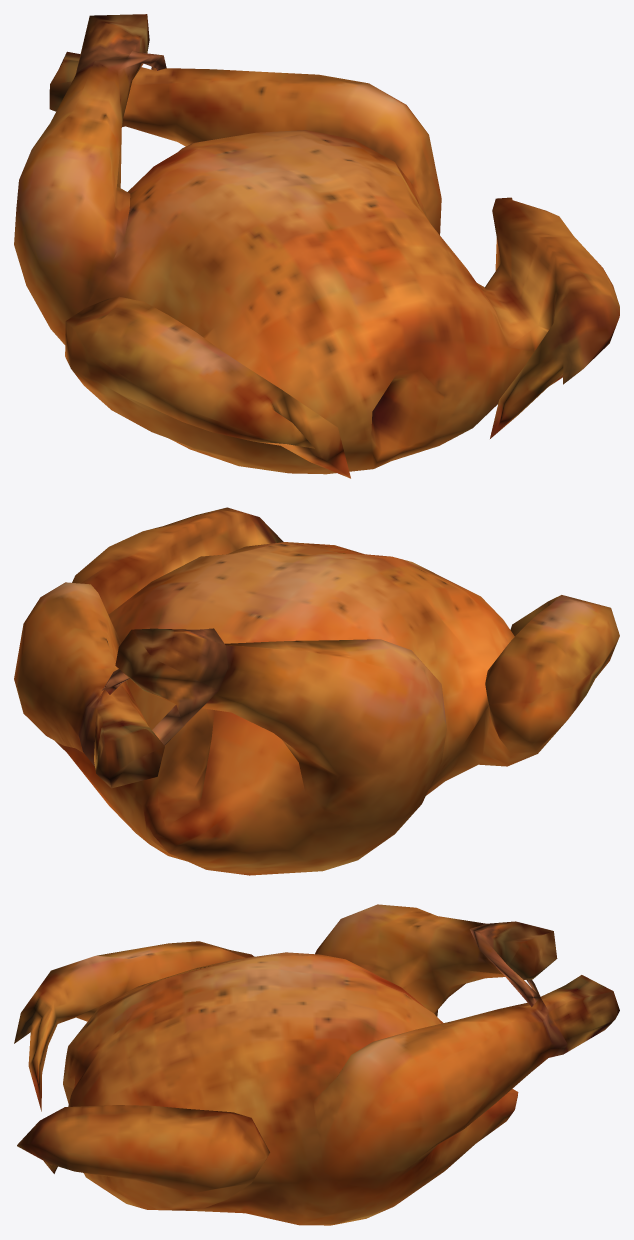
The model's file is ref_roastchicken.glb.
3 renders of one model, top to bottom at view 1: azimuth 30°, elevation 25°; view 2: azimuth 150°, elevation 25°; view 3: azimuth 270°, elevation 25°, orthographic. The views are drawn at different scales.
Parts seen in each view (by area): view 1: ref_roastchicken_part0; view 2: ref_roastchicken_part0; view 3: ref_roastchicken_part0.
Part boxes in pixels (<box>): ref_roastchicken_part0: <box>14,14,619,478</box>; ref_roastchicken_part0: <box>14,507,619,875</box>; ref_roastchicken_part0: <box>14,904,619,1225</box>.
Size of the model in its own units: 0.8023 by 0.4823 by 1.
1 material, 1 textured.
